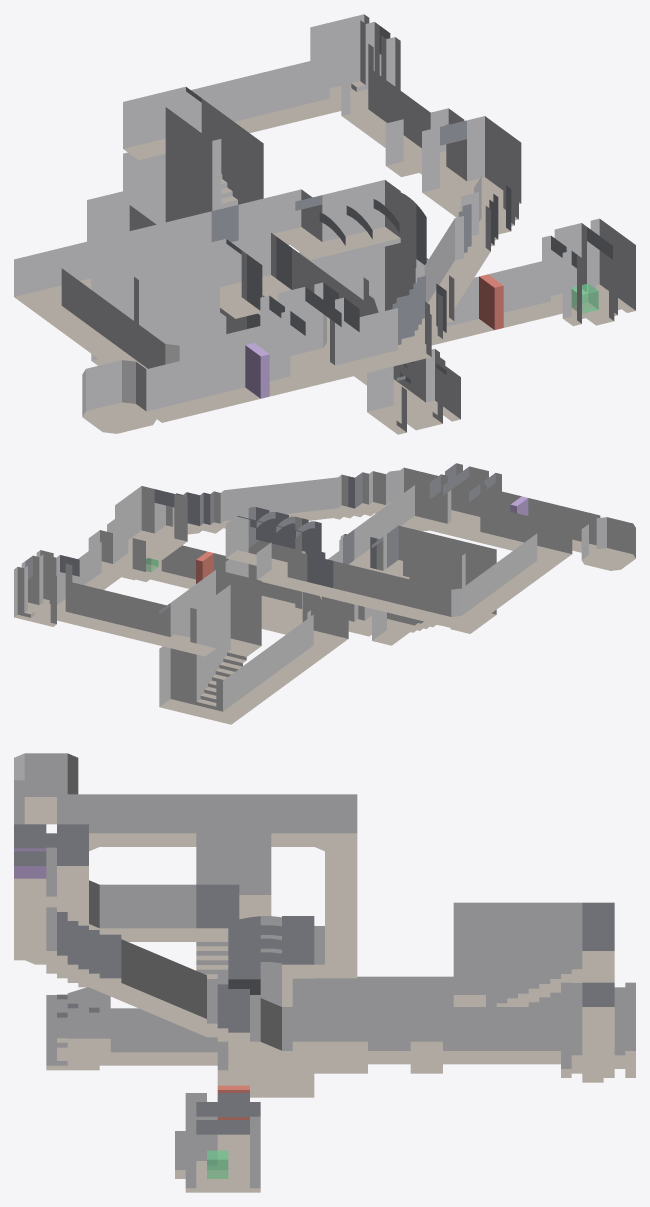
File: research_02.glb
The picture shows the model from 3 angles, top to bottom: view 1: azimuth 30°, elevation 25°; view 2: azimuth 150°, elevation 25°; view 3: azimuth 270°, elevation 25°; orthographic projection. The views are drawn at different scales.
Parts seen in each view (by area): view 1: corridor:7, corridor:8, room:6, room:7, room:1, corridor:4, corridor:0, room:4, room:2, corridor:6, room:5, room:0 (+12 smaller); view 2: corridor:7, corridor:8, room:6, room:7, corridor:5, room:1, corridor:0, corridor:6, room:4, room:5, corridor:4, room:0 (+8 smaller); view 3: corridor:7, corridor:8, room:6, room:1, room:7, corridor:6, room:4, room:2, room:3, corridor:2, room:5, room:0 (+9 smaller).
Boxes of the visible parts, x1,y1,x2,y2 form: corridor:7: (344,71,521,374); corridor:8: (14,189,322,369); room:6: (123,86,263,232); room:7: (91,239,262,365); room:1: (295,180,426,312); corridor:4: (146,336,295,422); corridor:0: (186,58,335,132); room:4: (260,282,359,389); room:2: (542,218,635,326); corridor:6: (226,232,374,352); room:5: (82,360,156,433); room:0: (310,14,400,119); corridor:7: (60,467,456,603); corridor:8: (256,506,572,631); room:6: (159,569,261,718); room:7: (372,525,496,645); corridor:5: (205,601,348,724); room:1: (225,507,321,634); corridor:0: (61,582,170,645); corridor:6: (339,485,440,572); room:4: (429,463,501,541); room:5: (581,517,635,570); corridor:4: (502,491,600,554); room:0: (14,550,79,626); corridor:7: (14,907,560,1073); corridor:8: (57,794,357,978); room:6: (453,902,614,1006); room:1: (217,916,314,1097); room:7: (196,802,271,979); corridor:6: (78,880,239,941); room:4: (14,824,88,923); room:2: (185,1093,260,1192); room:3: (46,987,110,1070); corridor:2: (110,1008,185,1065); room:5: (14,753,78,824); room:0: (561,982,635,1077).
Size of the model in its own units: 68 by 16 by 58.
